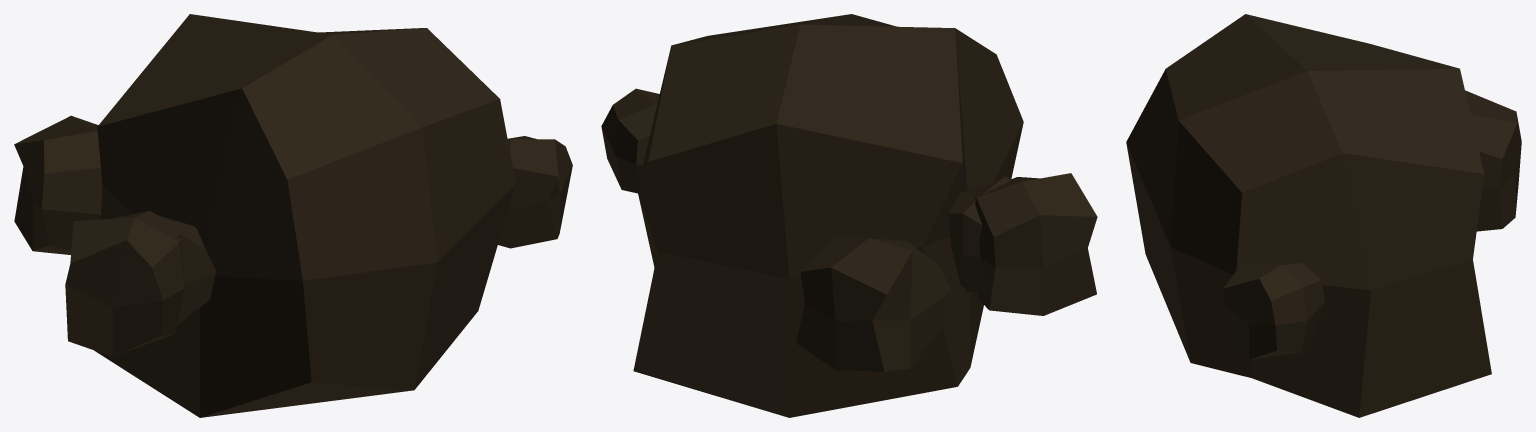
Rendered from stone.obj.
3 renders of one model, left to right at view 1: azimuth 30°, elevation 25°; view 2: azimuth 150°, elevation 25°; view 3: azimuth 270°, elevation 25°, orthographic. The views are drawn at different scales.
Visible parts, largest first — view 1: stone_Cube.002, stone1_Cube.001, stone2_Cube.004; view 2: stone_Cube.002, stone2_Cube.004, stone1_Cube.001; view 3: stone_Cube.002, stone1_Cube.001, stone2_Cube.004.
Boxes of the visible parts, x1,y1,x2,y2 form: stone_Cube.002: (94,14,515,417); stone1_Cube.001: (65,136,572,356); stone2_Cube.004: (14,115,216,324); stone_Cube.002: (633,14,1023,417); stone2_Cube.004: (796,176,1010,371); stone1_Cube.001: (601,88,1097,315); stone_Cube.002: (1126,14,1491,417); stone1_Cube.001: (1222,261,1325,359); stone2_Cube.004: (1465,90,1521,231).
Size of the model in its own units: 1.86 by 1.16 by 1.38.
